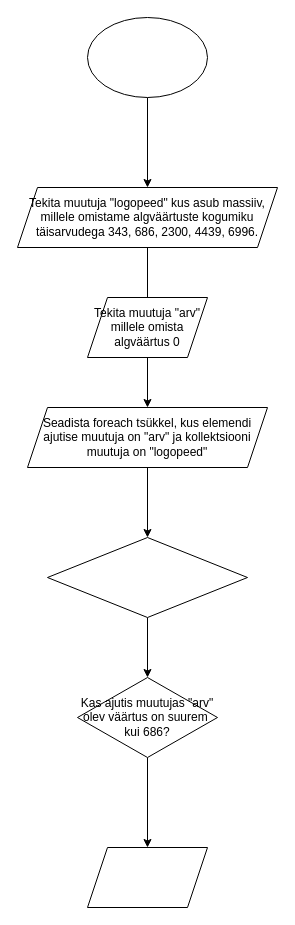
Some shapes in this 295 by 925 pixel diagram are drawn without their labels. Each missing label, with the box of its shape:
Algus: (86, 16, 208, 98)
Kas eelmine element on kollektsioonis viimane element?: (46, 536, 248, 618)
